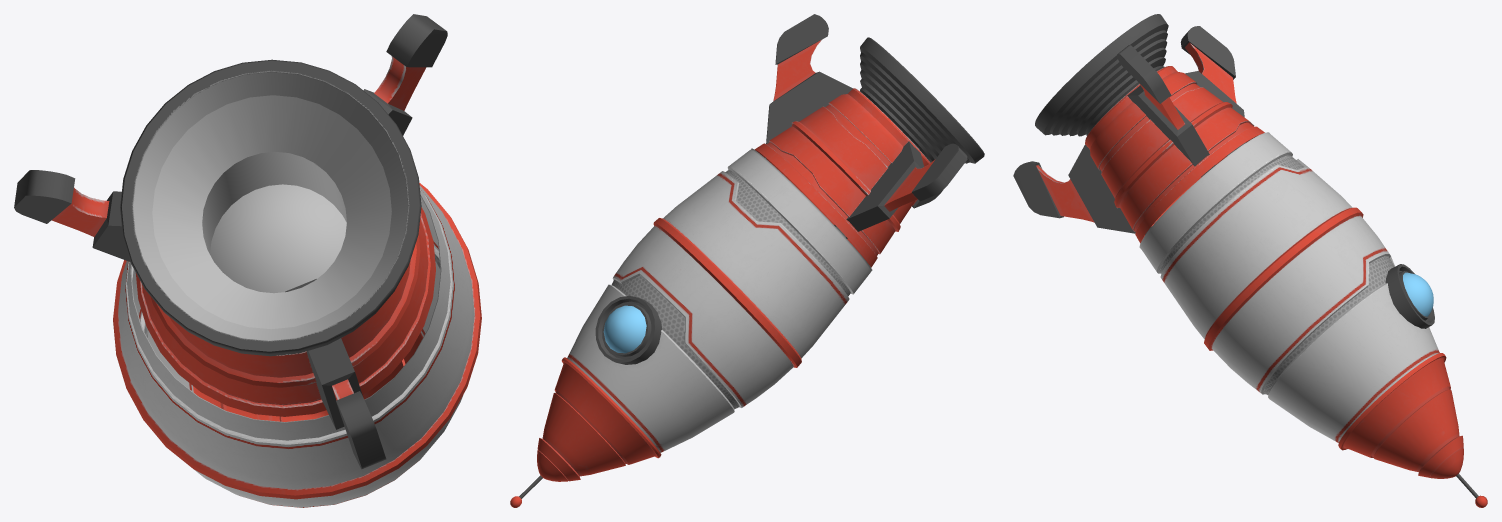
The model's file is RocketA2.fbx.
3 renders of one model, left to right at view 1: azimuth 30°, elevation 25°; view 2: azimuth 150°, elevation 25°; view 3: azimuth 270°, elevation 25°, orthographic. The views are drawn at different scales.
Parts seen in each view (by area): view 1: RocketA2; view 2: RocketA2; view 3: RocketA2.
Boxes of the visible parts, x1,y1,x2,y2 form: RocketA2: [14, 14, 481, 507]; RocketA2: [510, 14, 984, 507]; RocketA2: [1013, 14, 1487, 507].
Size of the model in its own units: 1.95 by 2.35 by 2.52.
